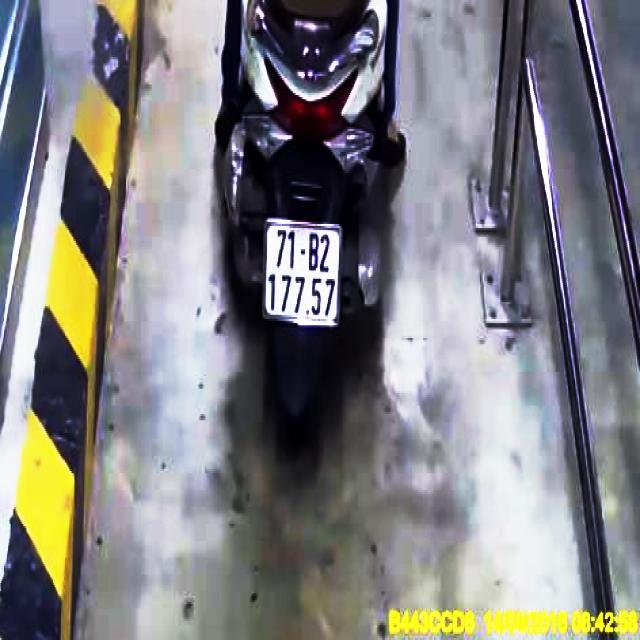license_plate: (269, 228, 341, 327)
